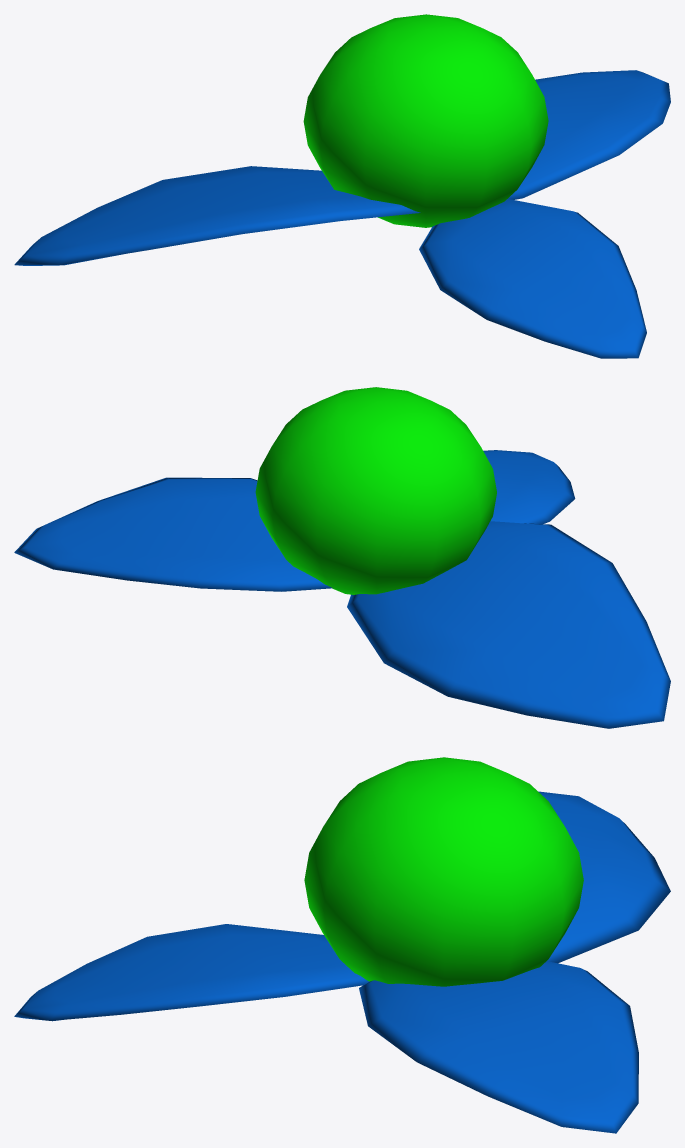
File: Berries.fbx
The picture shows the model from 3 angles, top to bottom: view 1: azimuth 30°, elevation 25°; view 2: azimuth 150°, elevation 25°; view 3: azimuth 270°, elevation 25°; orthographic projection. The views are drawn at different scales.
Visible parts, largest first — view 1: Berries; view 2: Berries; view 3: Berries.
Boxes of the visible parts, <box> form: Berries: <box>14,14,670,358</box>; Berries: <box>14,387,670,728</box>; Berries: <box>14,757,670,1133</box>.
Bounding box in the file's own units: 49.52 × 14.66 × 37.96.
